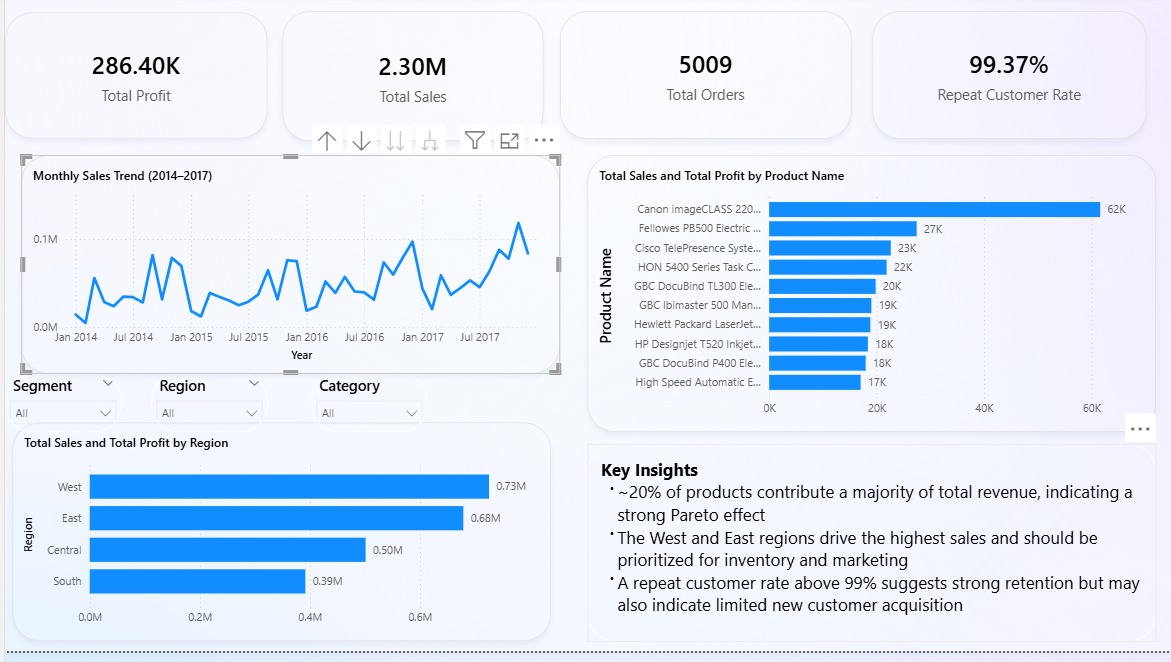

This screenshot's page, from the dashboard's own definition file:
{"tool":"powerbi","page":{"name":"Page 1","canvas":[1280,720],"ordinal":0},"visuals":[{"type":"card","fields":{"Values":["Sample - Superstore.Total Profit"]},"box":[0,19.2,288.2,138.6],"z":0},{"type":"card","fields":{"Values":["Sample - Superstore.Total Sales"]},"box":[304.6,17.8,286.8,142.7],"z":1},{"type":"card","fields":{"Values":["Sample - Superstore.Total Orders"]},"box":[609.3,17.8,319.7,140],"z":2},{"type":"card","fields":{"Values":["Sample - Superstore.Repeat Customer Rate"]},"box":[952.3,17.8,300.5,140],"z":3},{"type":"lineChart","title":"Monthly Sales Trend (2014–2017)","fields":{"Category":["Sample - Superstore.MonthStart.Variation.Date Hierarchy.Year","Sample - Superstore.MonthStart.Variation.Date Hierarchy.Quarter","Sample - Superstore.MonthStart.Variation.Date Hierarchy.Month","Sample - Superstore.MonthStart.Variation.Date Hierarchy.Day"],"Y":["Sample - Superstore.Total Sales"]},"box":[17.8,175.6,591.4,240.1],"z":4},{"type":"clusteredBarChart","fields":{"Category":["Sample - Superstore.Product Name"],"Y":["Sample - Superstore.Total Sales"]},"box":[640,176,624,304],"z":5},{"type":"clusteredBarChart","fields":{"Category":["Sample - Superstore.Region"],"Y":["Sample - Superstore.Total Sales"]},"box":[8.2,469.3,591.4,240.1],"z":6},{"type":"slicer","fields":{"Values":["Sample - Superstore.Segment"]},"box":[0,416,128,64],"z":7},{"type":"slicer","fields":{"Values":["Sample - Superstore.Category"]},"box":[336,416,128,64],"z":8},{"type":"slicer","fields":{"Values":["Sample - Superstore.Region"]},"box":[160,416,128,64],"z":9},{"type":"textbox","box":[639.5,492.6,624.4,216.8],"z":10}]}

Visuals, with their boxes in screenshot pixels (x1, y1, x2, y2), scaled from the page's 1280x720 canvas onto the 1171x662 screenshot:
card - Sample - Superstore.Total Profit: detection(0, 18, 264, 145)
card - Sample - Superstore.Total Sales: detection(279, 16, 541, 148)
card - Sample - Superstore.Total Orders: detection(557, 16, 850, 145)
card - Sample - Superstore.Repeat Customer Rate: detection(871, 16, 1146, 145)
"Monthly Sales Trend (2014–2017)" lineChart: detection(16, 161, 557, 382)
clusteredBarChart - Sample - Superstore.Product Name x Sample - Superstore.Total Sales: detection(586, 162, 1156, 441)
clusteredBarChart - Sample - Superstore.Region x Sample - Superstore.Total Sales: detection(8, 431, 549, 652)
slicer - Sample - Superstore.Segment: detection(0, 382, 117, 441)
slicer - Sample - Superstore.Category: detection(307, 382, 424, 441)
slicer - Sample - Superstore.Region: detection(146, 382, 263, 441)
textbox: detection(585, 453, 1156, 652)
